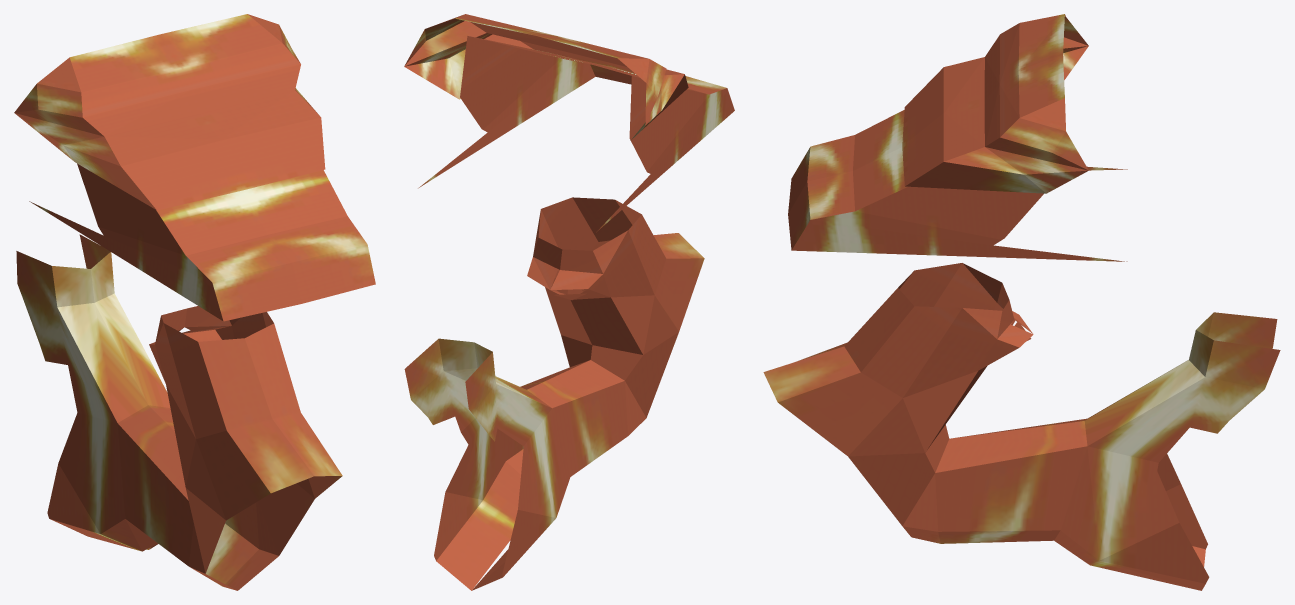
3 views of the same model, side by side, from view 1: azimuth 30°, elevation 25°; view 2: azimuth 150°, elevation 25°; view 3: azimuth 270°, elevation 25° (orthographic). The views are drawn at different scales.
Parts seen in each view (by area): view 1: Object02; view 2: Object02; view 3: Object02.
Part boxes in pixels (x1=…): Object02: x1=14, y1=14, x2=375, y2=590; Object02: x1=404, y1=14, x2=734, y2=590; Object02: x1=763, y1=14, x2=1280, y2=590.
Bounding box in the file's own units: 7.24 × 12.68 × 14.53.
